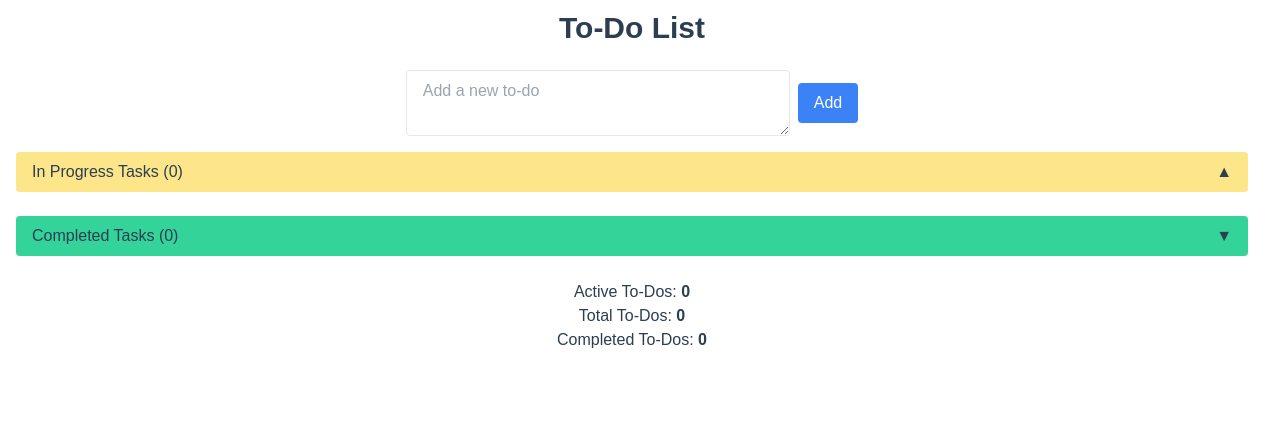
MainPage.vue › Adds a new to-do when the Add button is clicked
# Simulate entering a new to-do text
Type "New Task" into the text box with placeholder "Add a new to-do".
click(598, 103); type("New Task")  # box [406,70,790,136]
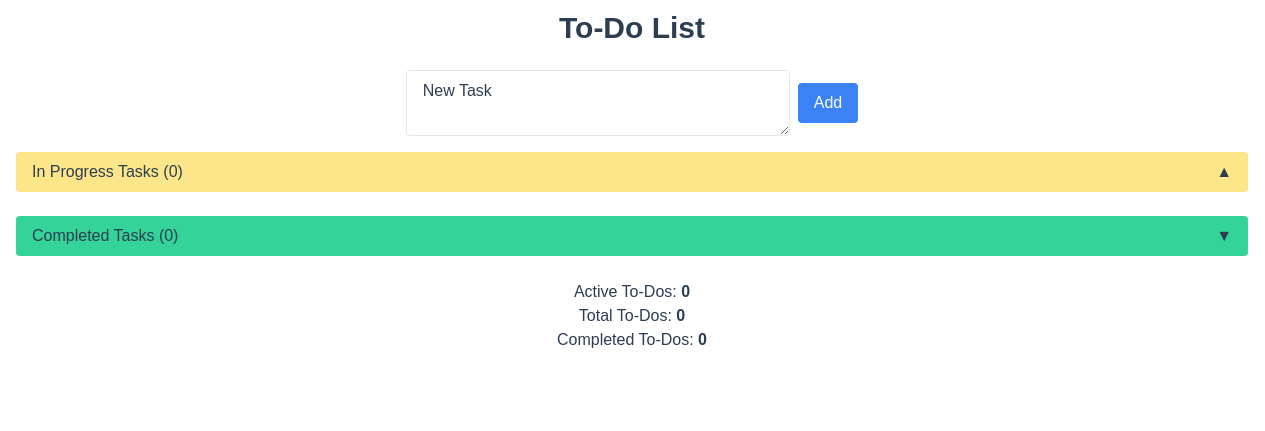
# Simulate clicking the Add button
Click the button "Add".
click(828, 103)  # box [798,83,858,123]
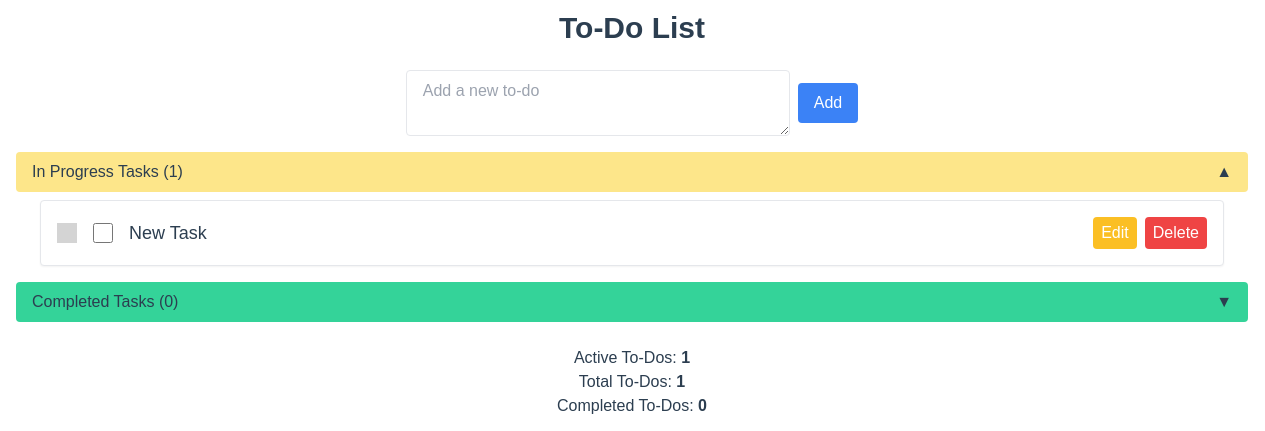
Now the text "New Task" is shown, box [129,223,207,243]
